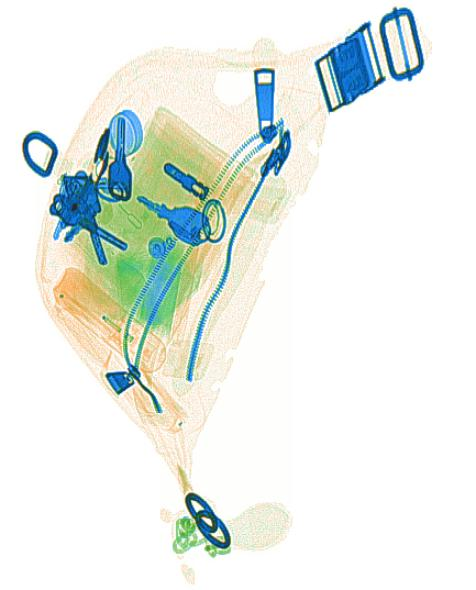plasticBottleWithaNozzle: (49, 265, 170, 374)
